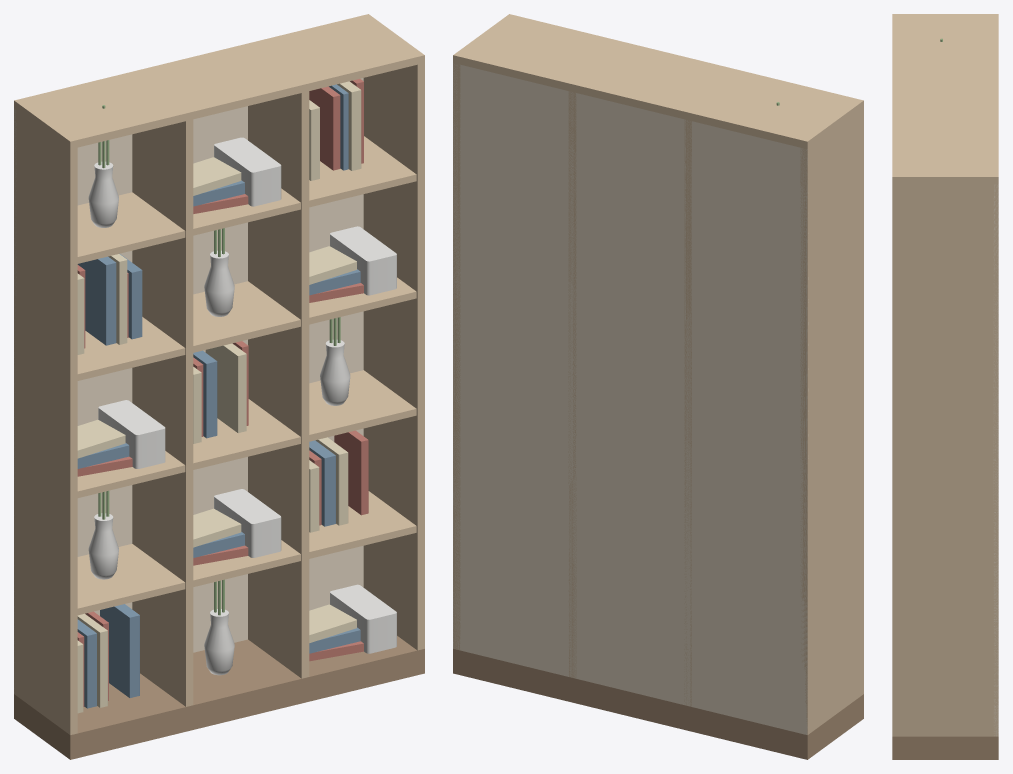
3 views of the same model, side by side, from view 1: azimuth 30°, elevation 25°; view 2: azimuth 150°, elevation 25°; view 3: azimuth 270°, elevation 25° (orthographic). The views are drawn at different scales.
Visible parts, largest first — view 1: Kệ sách Dài=1200; Sâu=330; view 2: Kệ sách Dài=1200; Sâu=330; view 3: Kệ sách Dài=1200; Sâu=330.
Part boxes in pixels (x1,y1,x2,y2): Kệ sách Dài=1200; Sâu=330: (14, 14, 424, 759); Kệ sách Dài=1200; Sâu=330: (453, 14, 863, 759); Kệ sách Dài=1200; Sâu=330: (892, 14, 998, 759).
Bounding box in the file's own units: 1.2 × 2.01 × 0.33.
